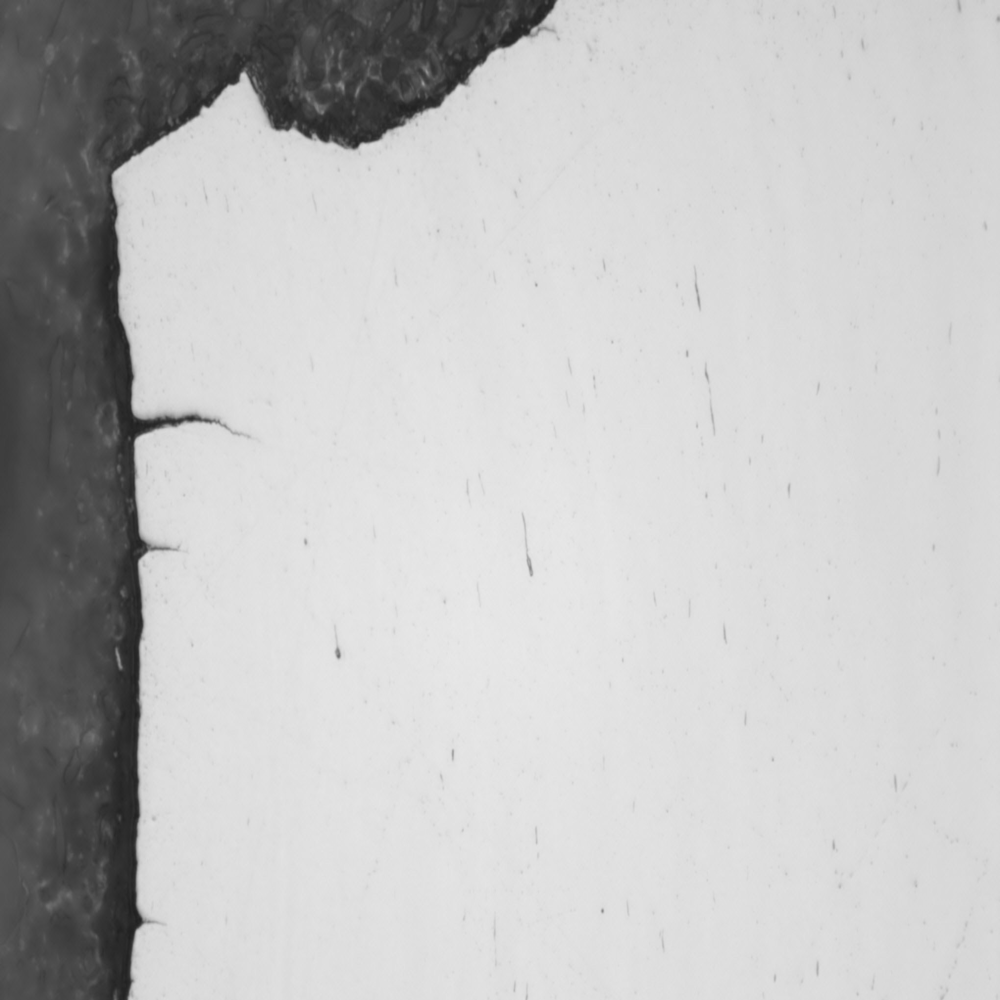crack: (118, 406, 288, 462), (129, 531, 200, 567), (124, 893, 174, 939)
